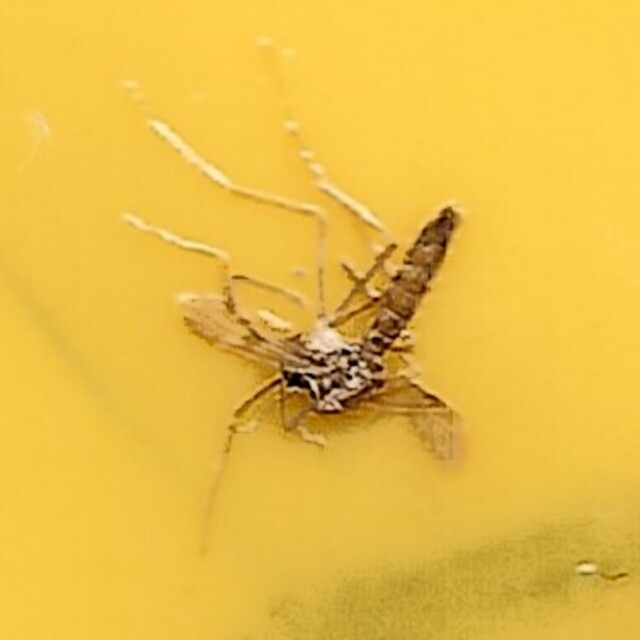Nematocera: (170, 181, 470, 459)
